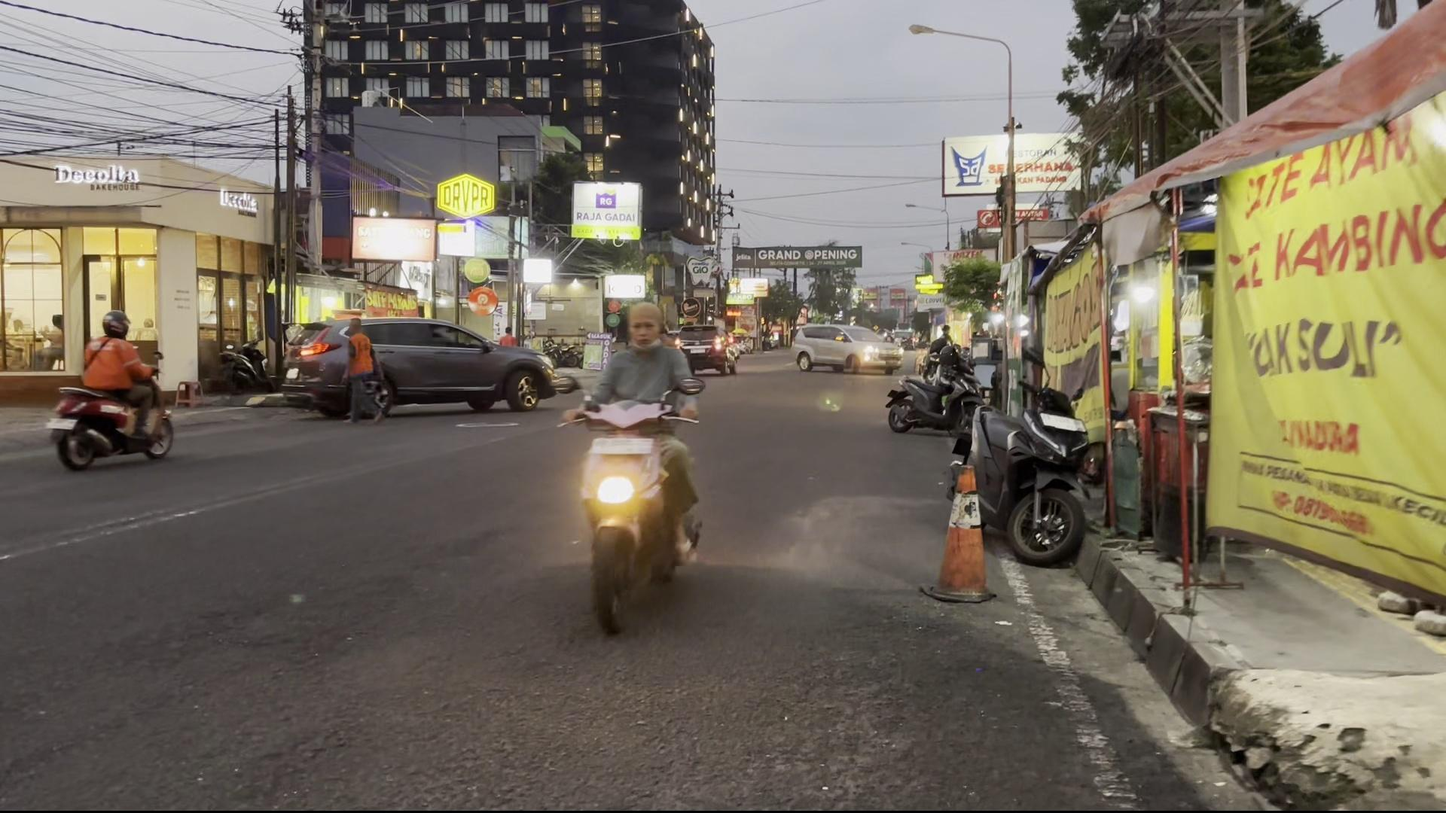nohelm: (625, 302, 666, 354)
riding: (563, 298, 712, 644)
